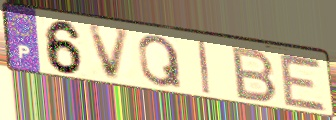6: (43, 18, 88, 77)
B: (231, 45, 280, 105)
E: (276, 51, 330, 114)
I: (195, 39, 212, 96)
Q: (136, 34, 185, 91)
V: (86, 24, 134, 82)
